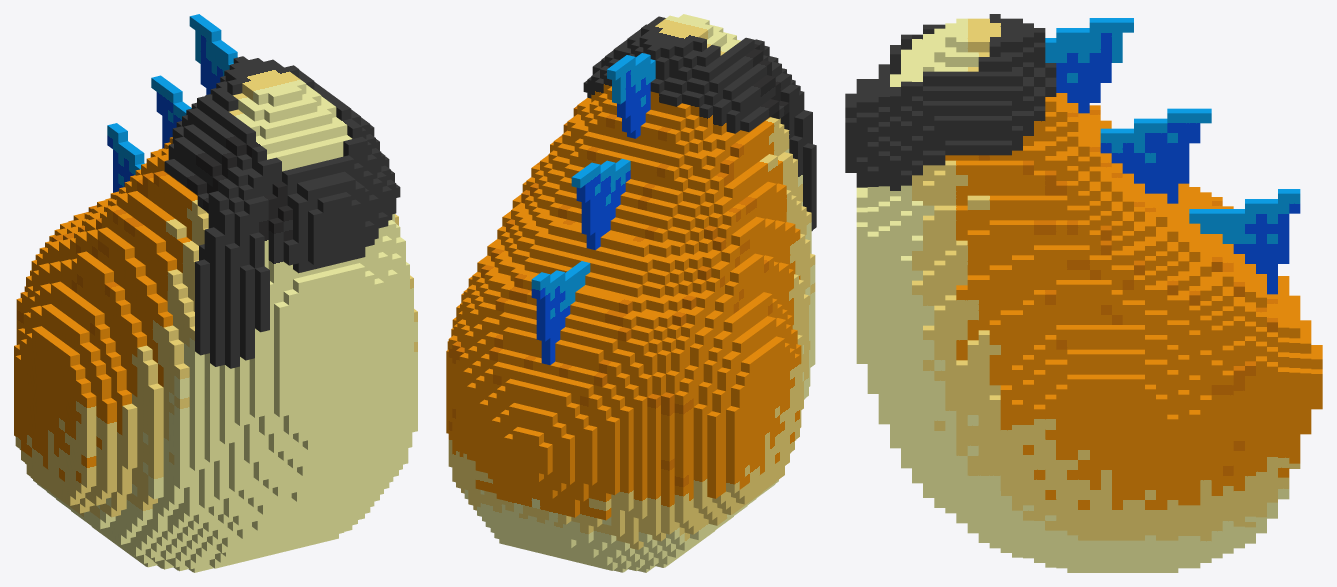
Rendered from black scarf.gltf.
3 renders of one model, left to right at view 1: azimuth 30°, elevation 25°; view 2: azimuth 150°, elevation 25°; view 3: azimuth 270°, elevation 25°, orthographic. The views are drawn at different scales.
Visible parts, largest first — view 1: 03_Body_BlackScarf-Mesh; view 2: 03_Body_BlackScarf-Mesh; view 3: 03_Body_BlackScarf-Mesh.
Boxes of the visible parts, box(x1,y1,x2,y2) form: 03_Body_BlackScarf-Mesh: box(14, 14, 417, 572); 03_Body_BlackScarf-Mesh: box(446, 14, 816, 572); 03_Body_BlackScarf-Mesh: box(845, 14, 1322, 572).
Size of the model in its own units: 33 by 51 by 43.
1 material, 1 textured.
